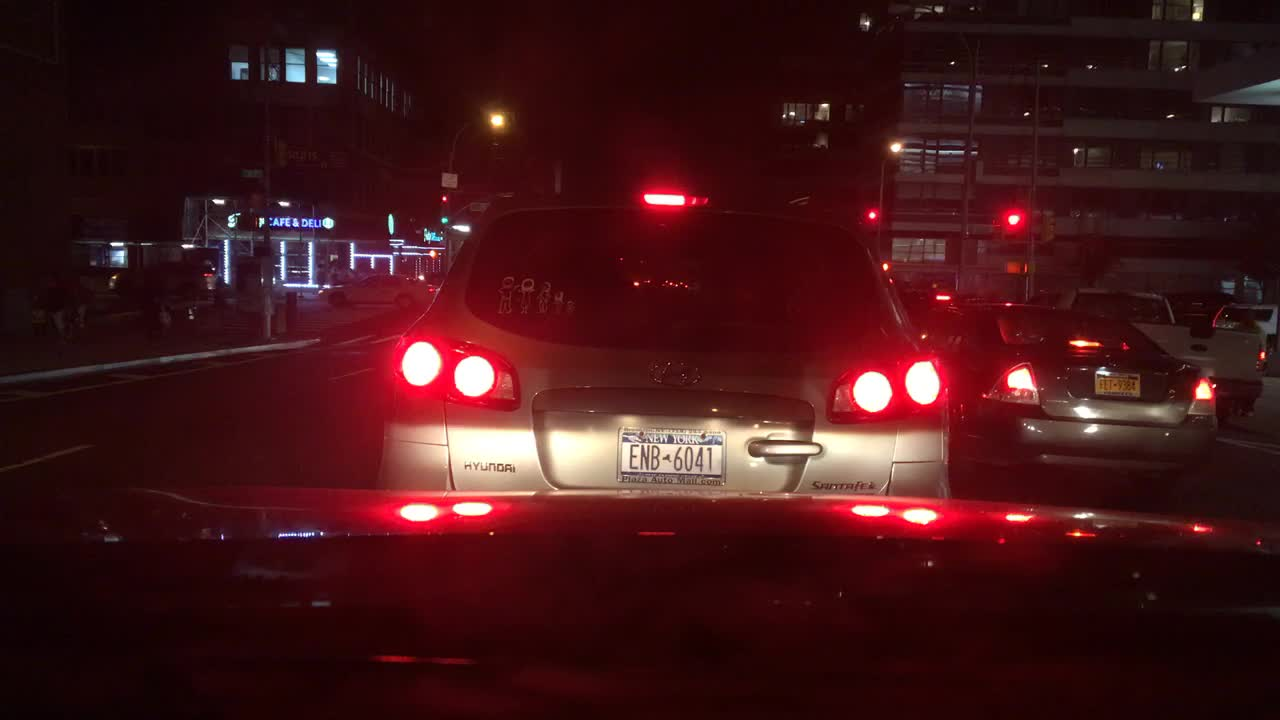car: (372, 180, 951, 498), (907, 296, 1221, 490), (10, 275, 175, 345), (316, 270, 440, 319), (1213, 300, 1275, 379), (106, 256, 216, 299)
person: (1229, 306, 1265, 419), (326, 257, 338, 287), (314, 262, 328, 287)
traffic light: (1002, 257, 1028, 276), (1042, 207, 1054, 241), (243, 210, 259, 232), (863, 204, 879, 221), (1005, 211, 1022, 227), (437, 189, 449, 205), (426, 247, 437, 260), (439, 213, 449, 226)
traffic sign: (469, 201, 488, 211)
truck: (1026, 284, 1268, 420)
